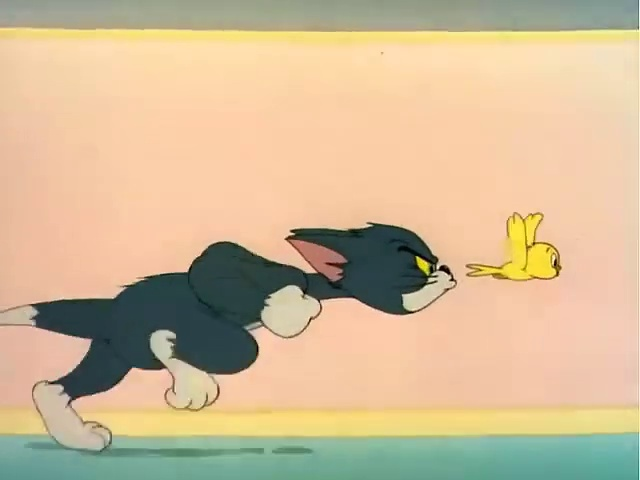tom: (9, 149, 454, 458)
